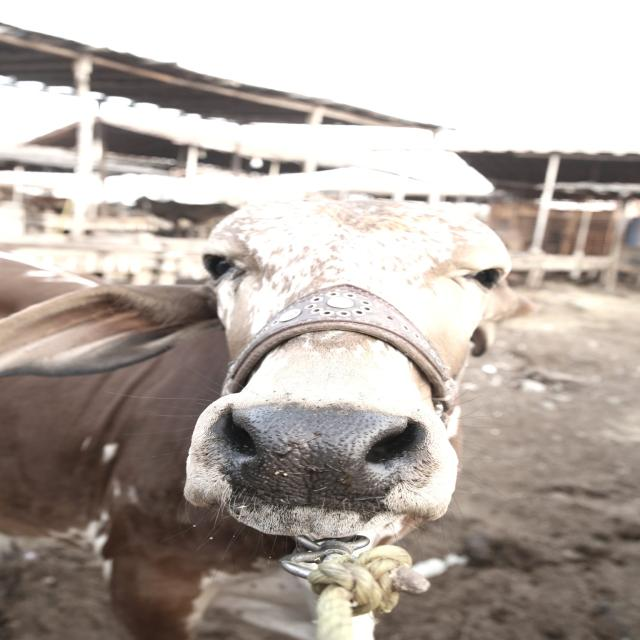muzzles: (201, 394, 418, 518)
